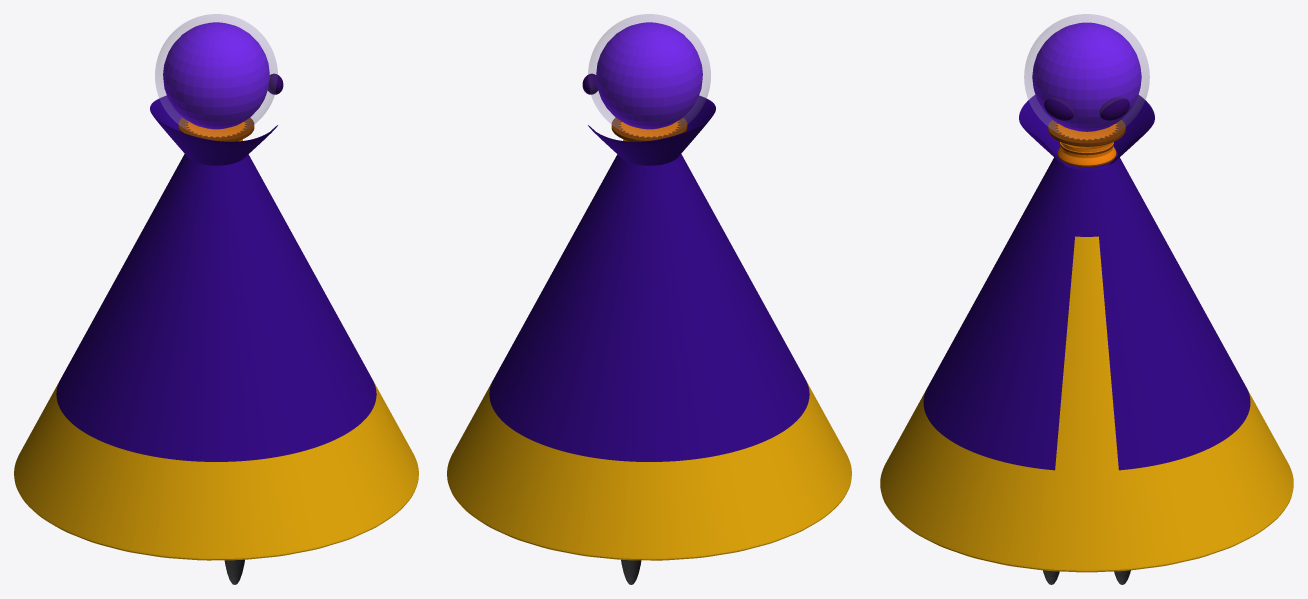
File: Mage.fbx
The picture shows the model from 3 angles, left to right: view 1: azimuth 30°, elevation 25°; view 2: azimuth 150°, elevation 25°; view 3: azimuth 270°, elevation 25°; orthographic projection. The views are drawn at different scales.
Parts seen in each view (by area): view 1: Body, Head, Head.001, Neck; view 2: Body, Head, Head.001, Neck; view 3: Body, Head, Head.001, Neck, Eye, Eye.001.
Part boxes in pixels (bbox=[...]): Body: bbox=[14, 95, 418, 560]; Head: bbox=[155, 14, 277, 136]; Head.001: bbox=[163, 22, 269, 129]; Neck: bbox=[178, 117, 254, 141]; Body: bbox=[447, 95, 851, 560]; Head: bbox=[588, 14, 710, 136]; Head.001: bbox=[596, 22, 702, 129]; Neck: bbox=[611, 117, 687, 141]; Body: bbox=[880, 95, 1293, 572]; Head: bbox=[1024, 14, 1149, 139]; Head.001: bbox=[1032, 22, 1141, 131]; Neck: bbox=[1048, 120, 1125, 167]; Eye: bbox=[1044, 97, 1074, 120]; Eye.001: bbox=[1099, 97, 1129, 120].
Size of the model in its own units: 195 by 294 by 195.
